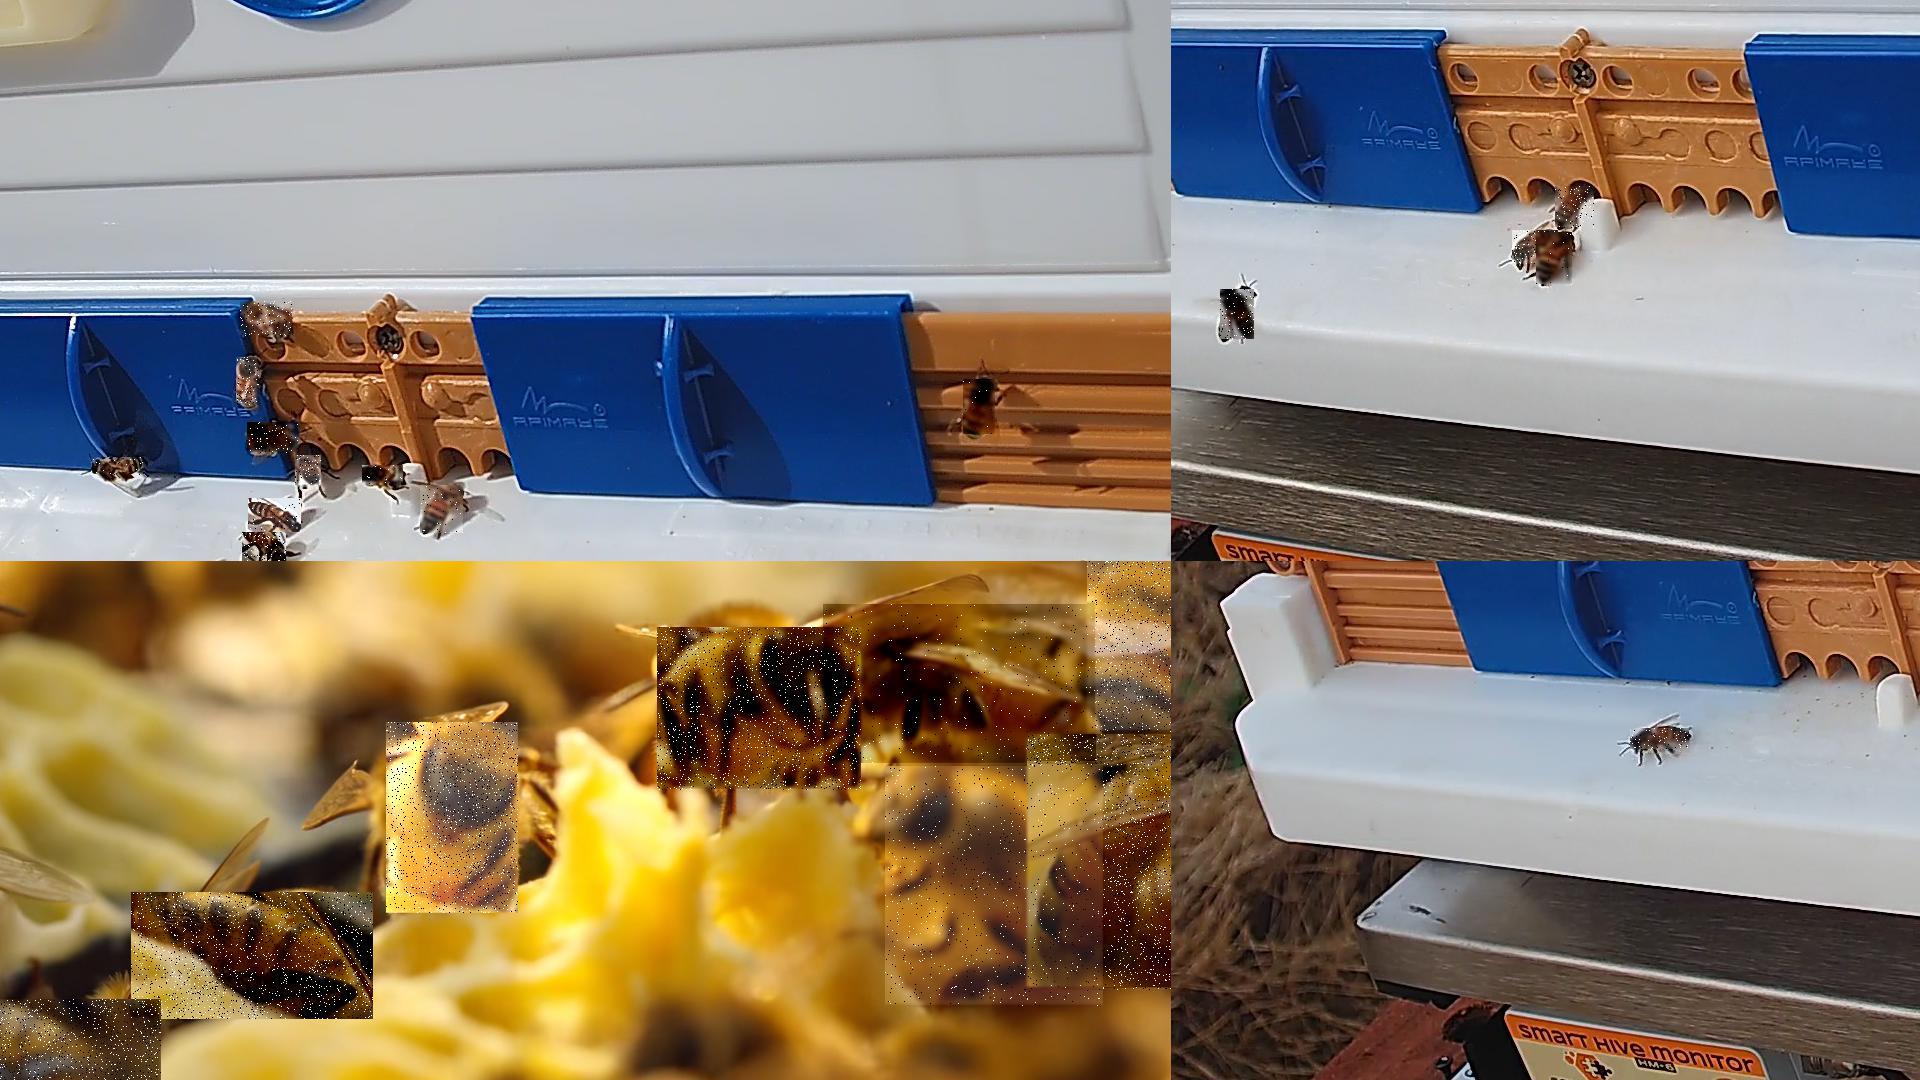bee: (885, 766, 1105, 1007), (823, 604, 1096, 764), (1027, 735, 1170, 992), (657, 628, 862, 791), (131, 891, 375, 1021), (386, 723, 520, 914), (1087, 560, 1170, 735), (0, 1000, 164, 1079), (421, 485, 464, 534), (1536, 233, 1573, 287), (964, 378, 998, 435), (240, 302, 293, 338), (248, 498, 302, 533), (1220, 289, 1255, 340), (1555, 187, 1596, 229), (1513, 231, 1559, 266), (248, 423, 299, 455), (1630, 728, 1691, 750), (243, 531, 287, 560), (92, 458, 149, 479), (237, 357, 261, 406), (295, 456, 322, 491), (363, 465, 404, 485)
